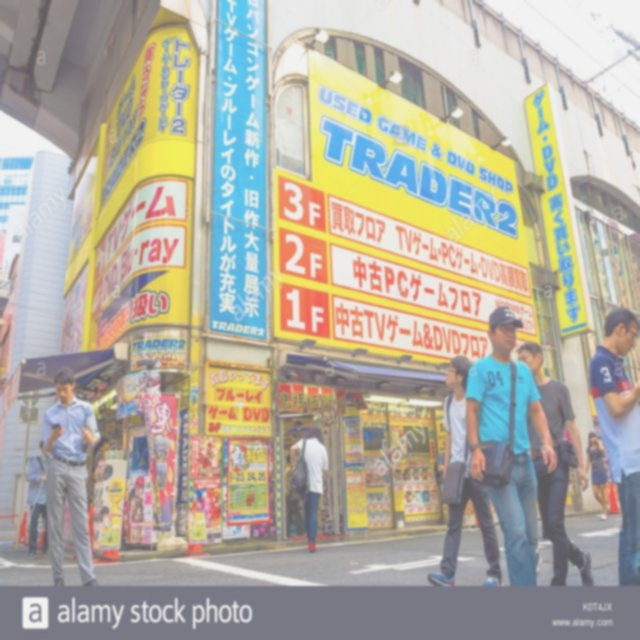pessoa: (464, 304, 559, 588), (516, 342, 596, 586), (426, 354, 504, 586), (588, 305, 640, 586), (40, 364, 103, 588), (288, 426, 330, 554), (115, 350, 180, 420), (188, 432, 226, 543), (25, 438, 54, 560), (117, 472, 154, 553), (58, 280, 92, 354), (584, 430, 610, 521), (284, 453, 308, 540), (122, 422, 154, 470), (436, 441, 450, 533), (93, 434, 110, 470)
